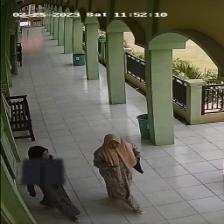Cadar_Niqab: (20, 145, 65, 184)
